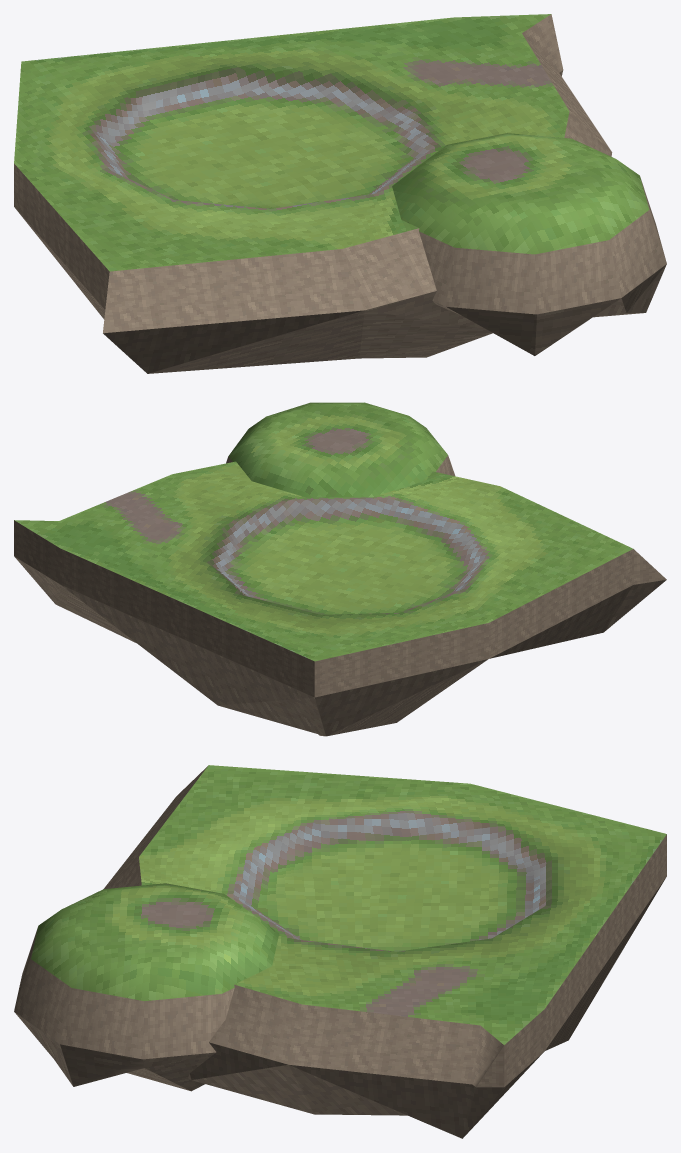
Rendered from 05a2_Circus_Site.glb.
3 renders of one model, top to bottom at view 1: azimuth 30°, elevation 25°; view 2: azimuth 150°, elevation 25°; view 3: azimuth 270°, elevation 25°, orthographic. The views are drawn at different scales.
Parts seen in each view (by area): view 1: part_0; view 2: part_0; view 3: part_0.
Boxes of the visible parts, left/top/right/bottom form: part_0: left=14, top=14, right=666, bottom=373; part_0: left=14, top=402, right=666, bottom=736; part_0: left=14, top=765, right=666, bottom=1138.
Bounding box in the file's own units: 220 × 71.43 × 208.
1 material, 1 textured.
